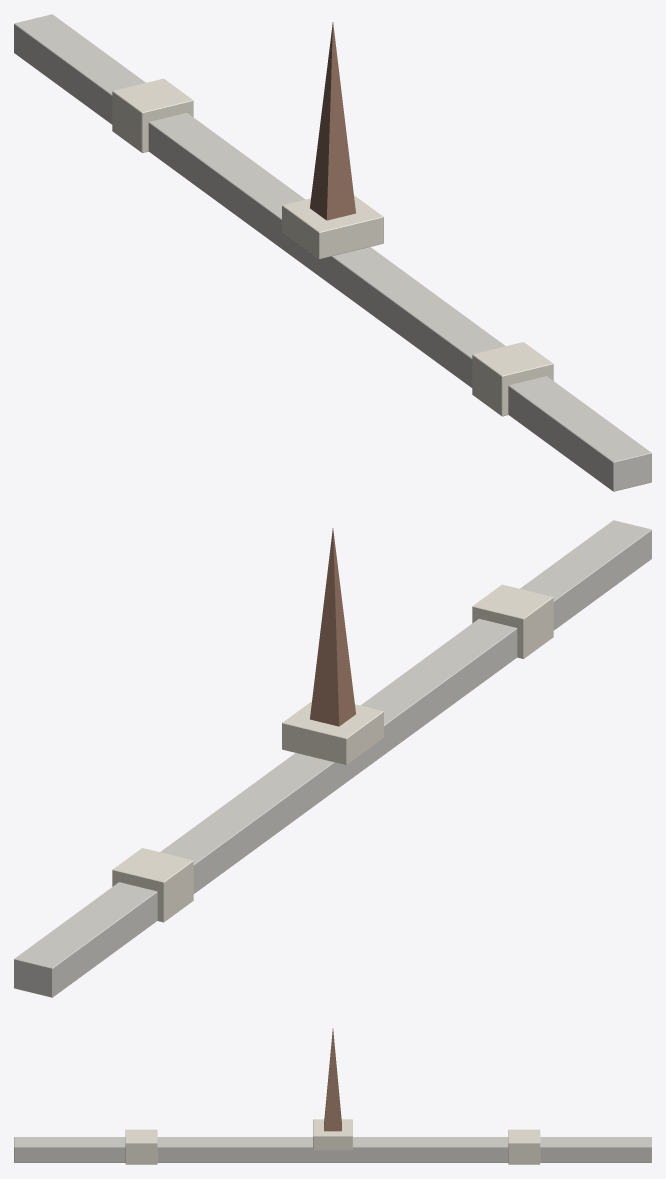
File: spina.glb
3 renders of one model, top to bottom at view 1: azimuth 30°, elevation 25°; view 2: azimuth 150°, elevation 25°; view 3: azimuth 270°, elevation 25°, orthographic. The views are drawn at different scales.
Parts seen in each view (by area): view 1: spina_wall, obelisk, obelisk_base, meta_-24.0, meta_24.0; view 2: spina_wall, obelisk, obelisk_base, meta_24.0, meta_-24.0; view 3: spina_wall, meta_-24.0, meta_24.0, obelisk, obelisk_base.
Part boxes in pixels (x1,y1,x2,y2): spina_wall: [14, 14, 651, 491]; obelisk: [310, 22, 355, 220]; obelisk_base: [282, 195, 383, 259]; meta_-24.0: [472, 342, 553, 416]; meta_24.0: [112, 78, 193, 152]; spina_wall: [14, 520, 651, 997]; obelisk: [310, 528, 355, 726]; obelisk_base: [282, 701, 383, 765]; meta_24.0: [112, 848, 193, 922]; meta_-24.0: [472, 584, 553, 658]; spina_wall: [14, 1137, 651, 1162]; meta_-24.0: [125, 1129, 157, 1164]; meta_24.0: [508, 1129, 540, 1164]; obelisk: [324, 1028, 341, 1131]; obelisk_base: [313, 1119, 352, 1150].
Size of the model in its own units: 5 by 18.2 by 80.
